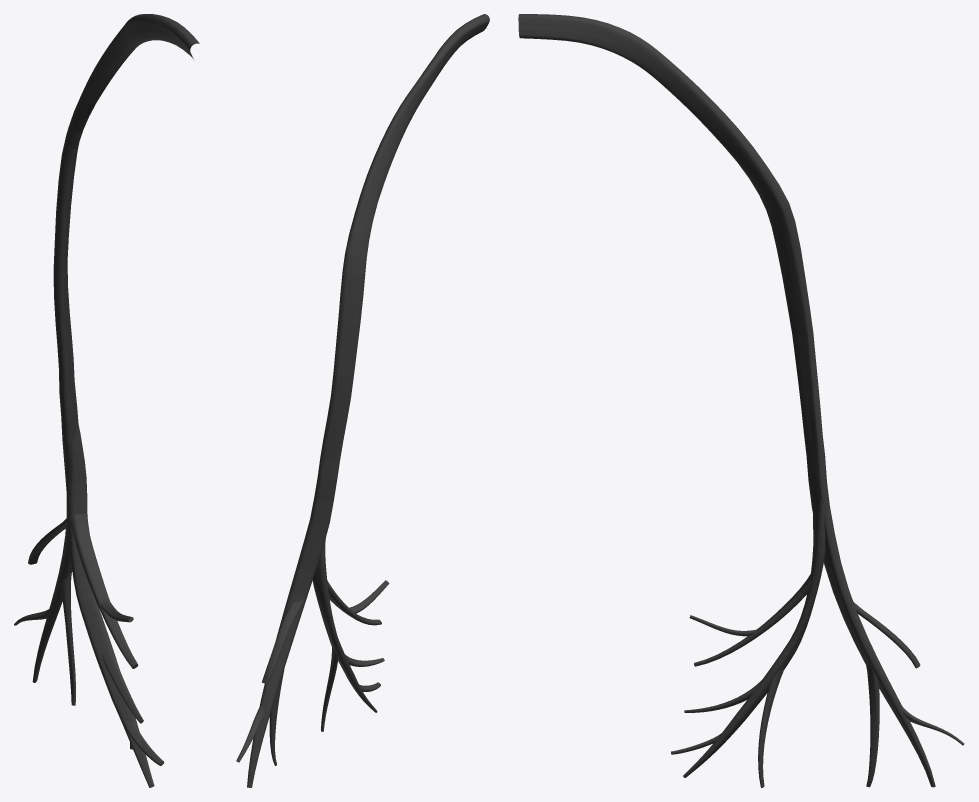
The model's file is N_9_glossopharnygeal_lingual.glb.
3 renders of one model, left to right at view 1: azimuth 30°, elevation 25°; view 2: azimuth 150°, elevation 25°; view 3: azimuth 270°, elevation 25°, orthographic. The views are drawn at different scales.
Parts seen in each view (by area): view 1: N_9_glossopharnygeal_lingual; view 2: N_9_glossopharnygeal_lingual; view 3: N_9_glossopharnygeal_lingual.
Part boxes in pixels (<box>): N_9_glossopharnygeal_lingual: <box>14,14,199,787</box>; N_9_glossopharnygeal_lingual: <box>236,14,489,787</box>; N_9_glossopharnygeal_lingual: <box>518,14,964,787</box>.
Size of the model in its own units: 0.00139 by 0.0137 by 0.00743.
1 material, 1 textured.
